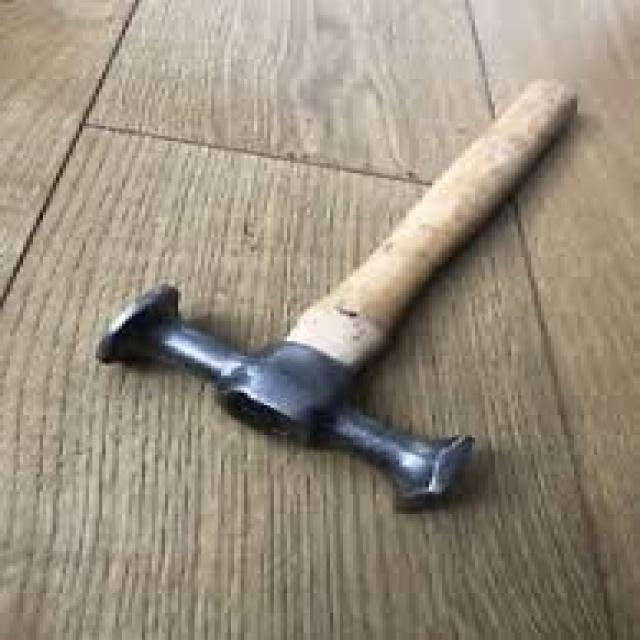hammer: (82, 73, 590, 518)
